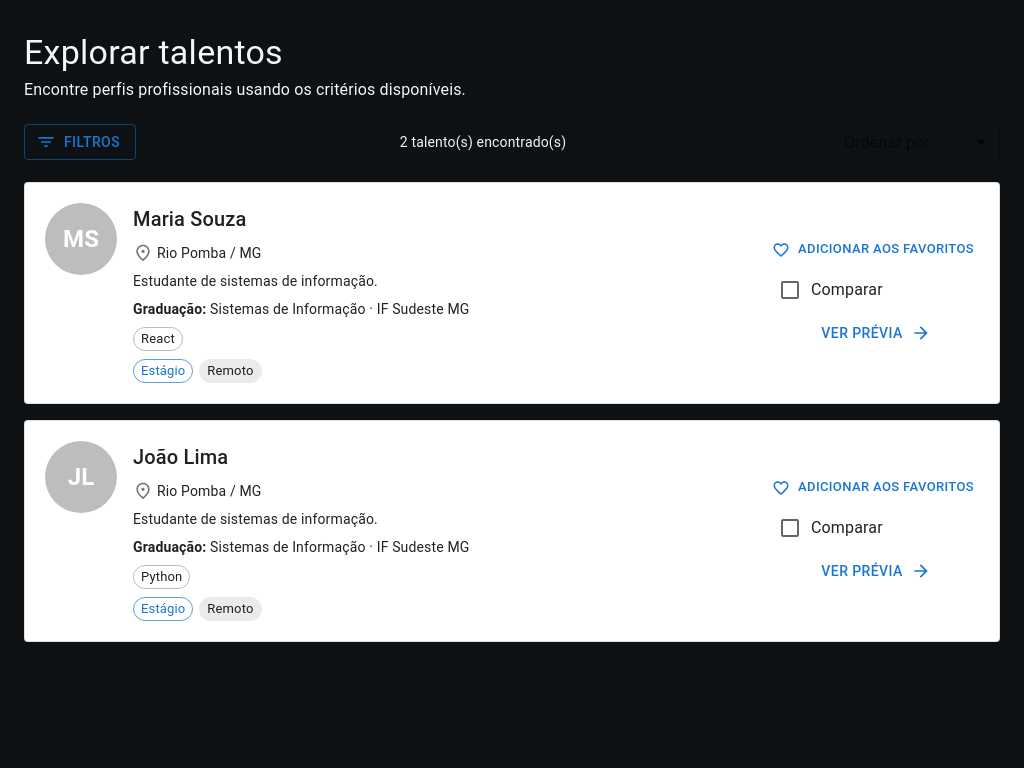
it: TalentDiscoveryView › filter panels › closes the drawer with Escape without navigating
Expected: the heading "Maria Souza" is shown, [133,203,246,235]
Click the button "Filtros".
click(80, 142)  # box [24,124,136,160]
(page scrolled)
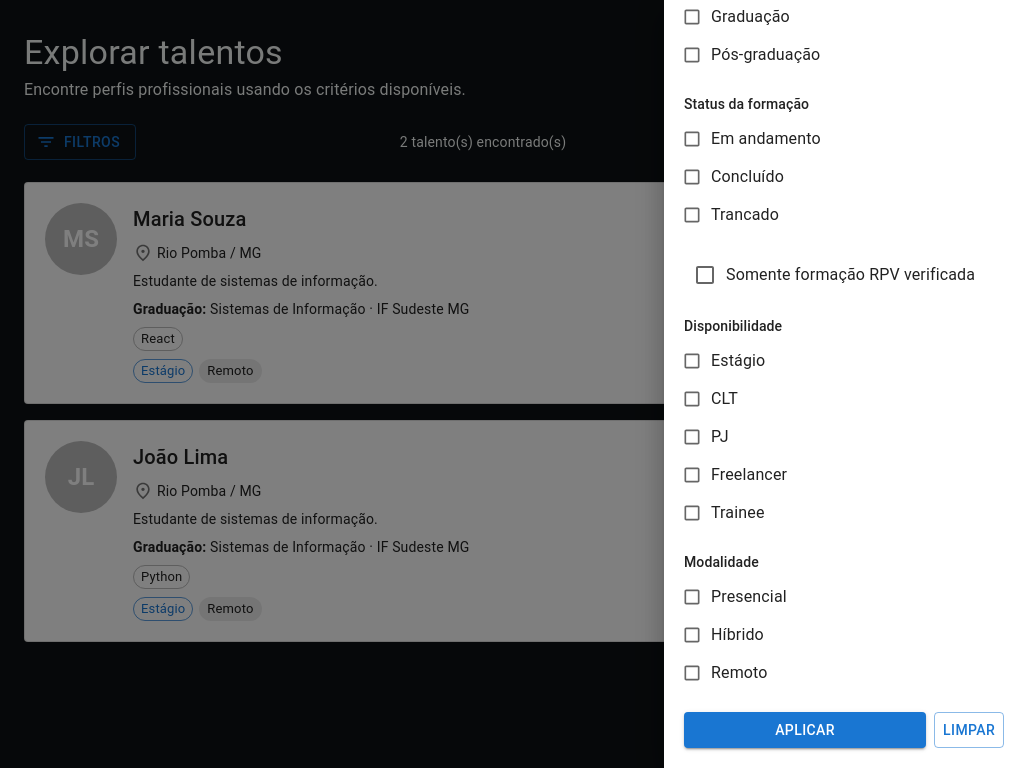
Result: the button "Aplicar" is shown at [684,712,926,748]
Press Escape
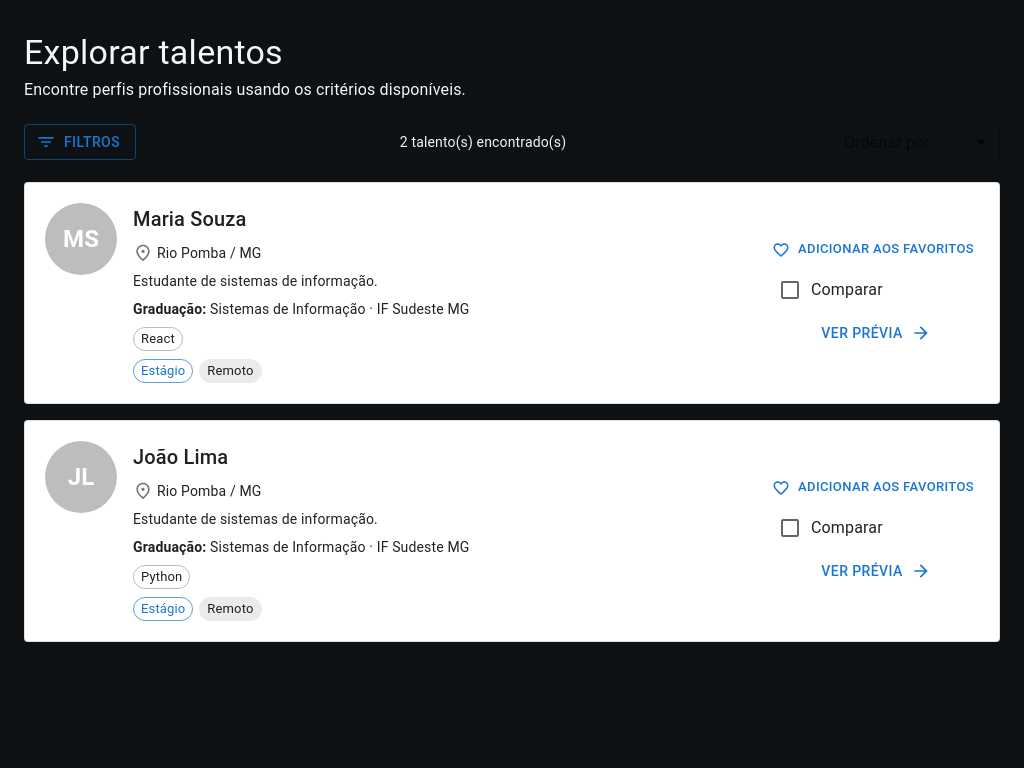
Result: the button "Aplicar" is gone
